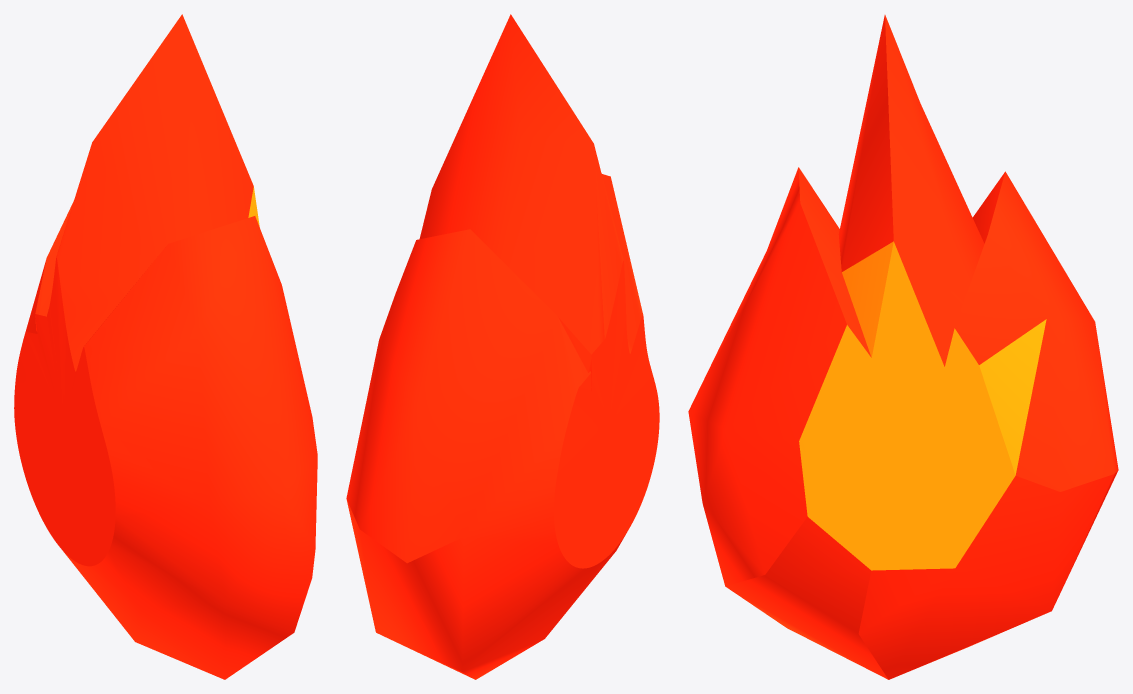
The model's file is frenzy.fbx.
The picture shows the model from 3 angles, left to right: view 1: azimuth 30°, elevation 25°; view 2: azimuth 150°, elevation 25°; view 3: azimuth 270°, elevation 25°; orthographic projection.
Visible parts, largest first — view 1: Circle.001; view 2: Circle.001; view 3: Circle.001.
Boxes of the visible parts, <box> form: Circle.001: <box>14,14,317,679</box>; Circle.001: <box>346,14,659,679</box>; Circle.001: <box>688,15,1118,679</box>.
Size of the model in its own units: 976 by 2802 by 1703.
